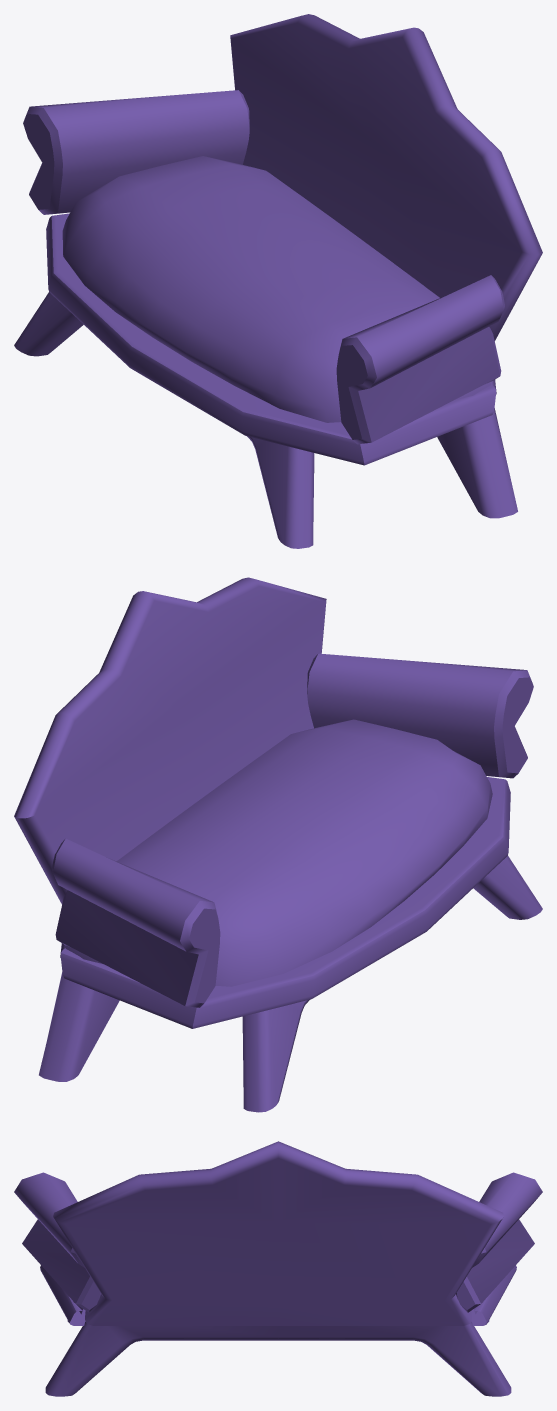
The model's file is SM_Couch.fbx.
3 views of the same model, one above another, from view 1: azimuth 30°, elevation 25°; view 2: azimuth 150°, elevation 25°; view 3: azimuth 270°, elevation 25° (orthographic). The views are drawn at different scales.
Visible parts, largest first — view 1: SM_Couch; view 2: SM_Couch; view 3: SM_Couch.
Part boxes in pixels (box(x1,y1,x2,y2)): SM_Couch: box(14, 14, 542, 548); SM_Couch: box(14, 577, 542, 1112); SM_Couch: box(14, 1141, 542, 1396).
Bounding box in the file's own units: 141 × 164 × 291.
